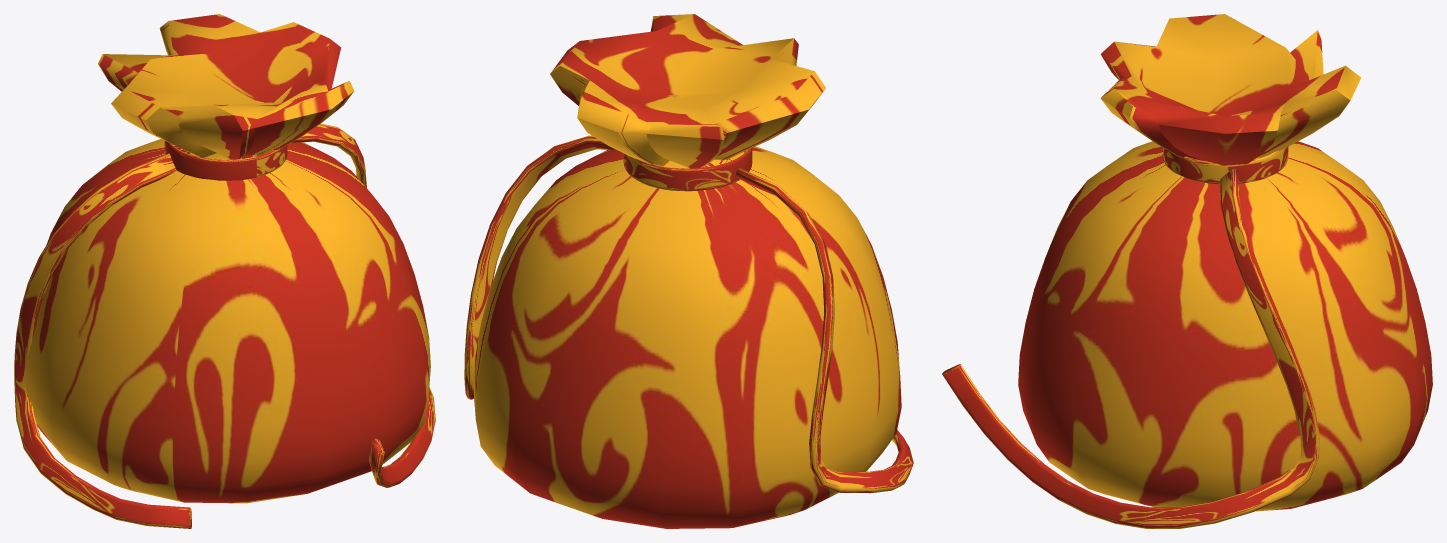
Rendered from BolsaItem.fbx.
3 views of the same model, side by side, from view 1: azimuth 30°, elevation 25°; view 2: azimuth 150°, elevation 25°; view 3: azimuth 270°, elevation 25° (orthographic). The views are drawn at different scales.
Parts seen in each view (by area): view 1: BézierCurve.002; view 2: BézierCurve.002; view 3: BézierCurve.002.
Part boxes in pixels (x1=…): BézierCurve.002: x1=14, y1=14, x2=435, y2=528; BézierCurve.002: x1=464, y1=14, x2=913, y2=528; BézierCurve.002: x1=942, y1=14, x2=1432, y2=528.
Size of the model in its own units: 37.2 by 35.43 by 40.37.
